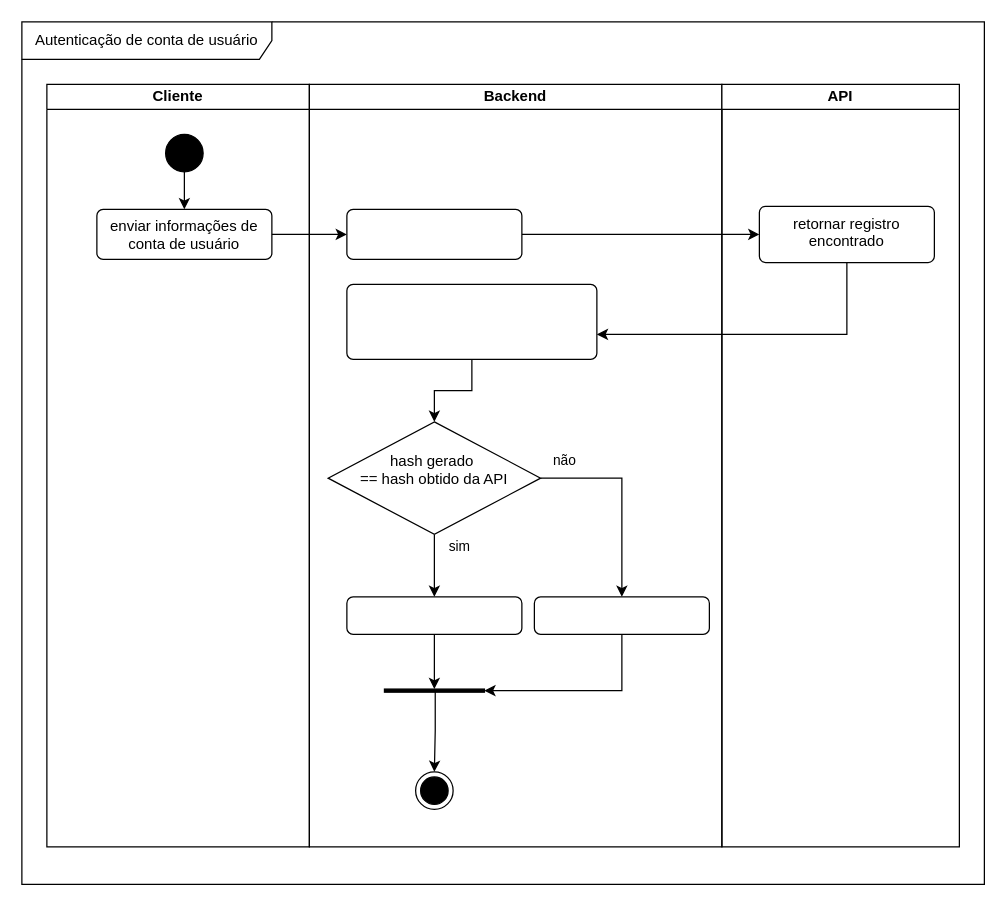
The diagram is 1006 pixels wide and 906 high, and some of its shapes have lost their labels. Each missing label, with the box of its shape:
gerar hash da senha recebida do cliente usando salt obtido da API: (346, 283, 597, 359)
negar acesso: (533, 596, 709, 634)
permitir acesso: (346, 596, 522, 634)
pesquisar por conta de usuário: (346, 208, 522, 259)
